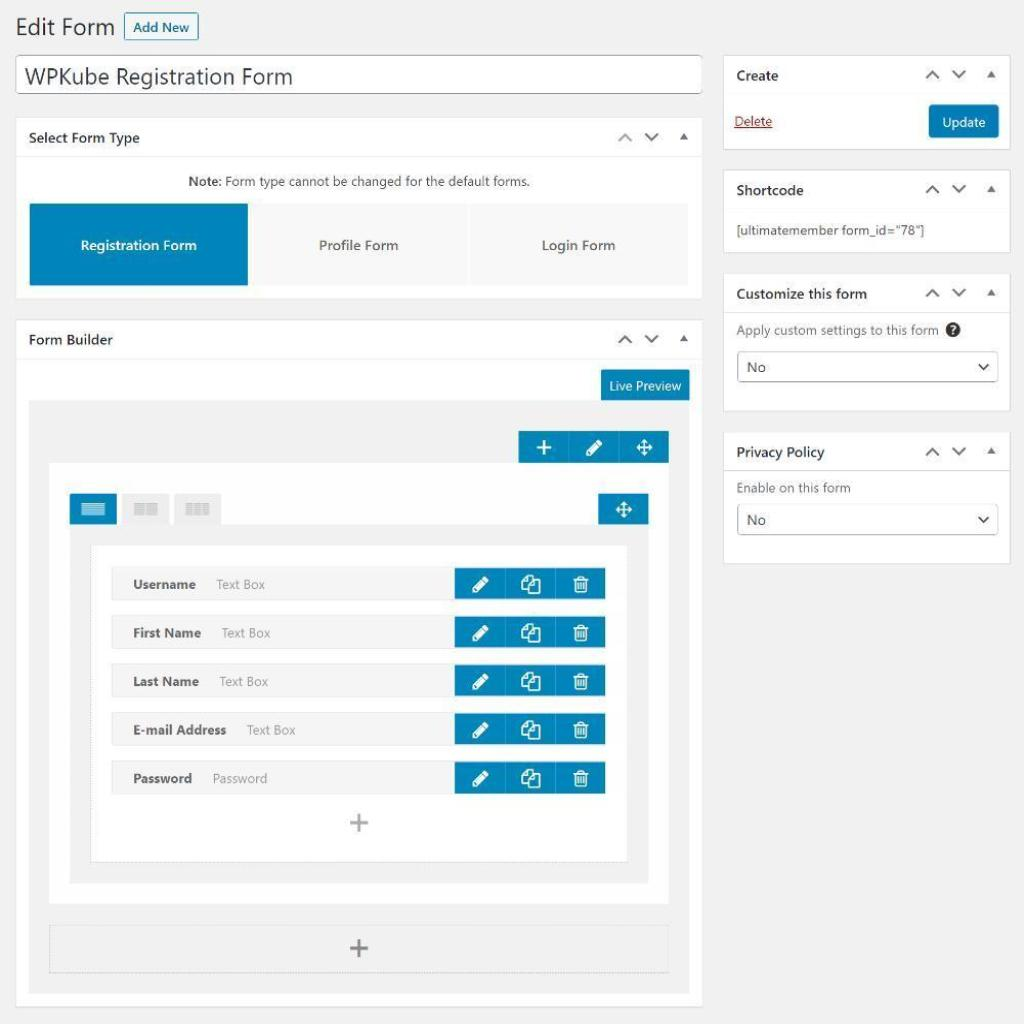button: (248, 202, 468, 286), (469, 202, 687, 286), (30, 203, 248, 286), (601, 369, 688, 400), (931, 104, 997, 138), (125, 12, 198, 38)
dropdown: (740, 503, 1000, 534), (738, 354, 998, 382)
icon: (515, 666, 546, 696), (517, 618, 544, 646), (517, 715, 544, 743), (514, 572, 545, 596), (345, 934, 371, 961), (182, 499, 217, 519), (129, 499, 162, 520), (581, 435, 607, 460), (517, 768, 543, 792), (78, 499, 110, 518), (633, 435, 658, 459), (566, 574, 594, 594), (348, 809, 372, 832), (569, 670, 592, 694), (469, 574, 494, 596), (534, 435, 556, 460), (612, 499, 638, 520), (569, 719, 591, 742), (471, 620, 491, 645), (614, 127, 637, 148), (471, 718, 493, 739), (468, 769, 491, 789), (571, 623, 592, 644), (469, 675, 492, 693), (571, 769, 591, 789), (950, 442, 970, 461), (642, 129, 665, 145), (613, 334, 637, 349), (924, 442, 941, 462), (952, 64, 970, 82), (945, 322, 964, 339), (926, 287, 943, 305), (924, 66, 941, 83), (986, 181, 1002, 199), (925, 184, 944, 199), (986, 443, 1002, 460), (950, 181, 969, 195), (676, 332, 693, 347), (952, 285, 966, 303), (986, 285, 1000, 303), (678, 131, 693, 145), (644, 333, 661, 345), (985, 67, 996, 83)
label: (10, 14, 117, 42), (736, 285, 868, 306), (28, 127, 144, 150), (736, 440, 826, 464), (129, 720, 229, 741), (130, 621, 205, 644), (23, 334, 121, 349), (129, 576, 203, 593), (124, 769, 195, 786), (738, 182, 805, 200), (131, 674, 206, 689), (734, 66, 782, 85), (730, 112, 776, 131)
